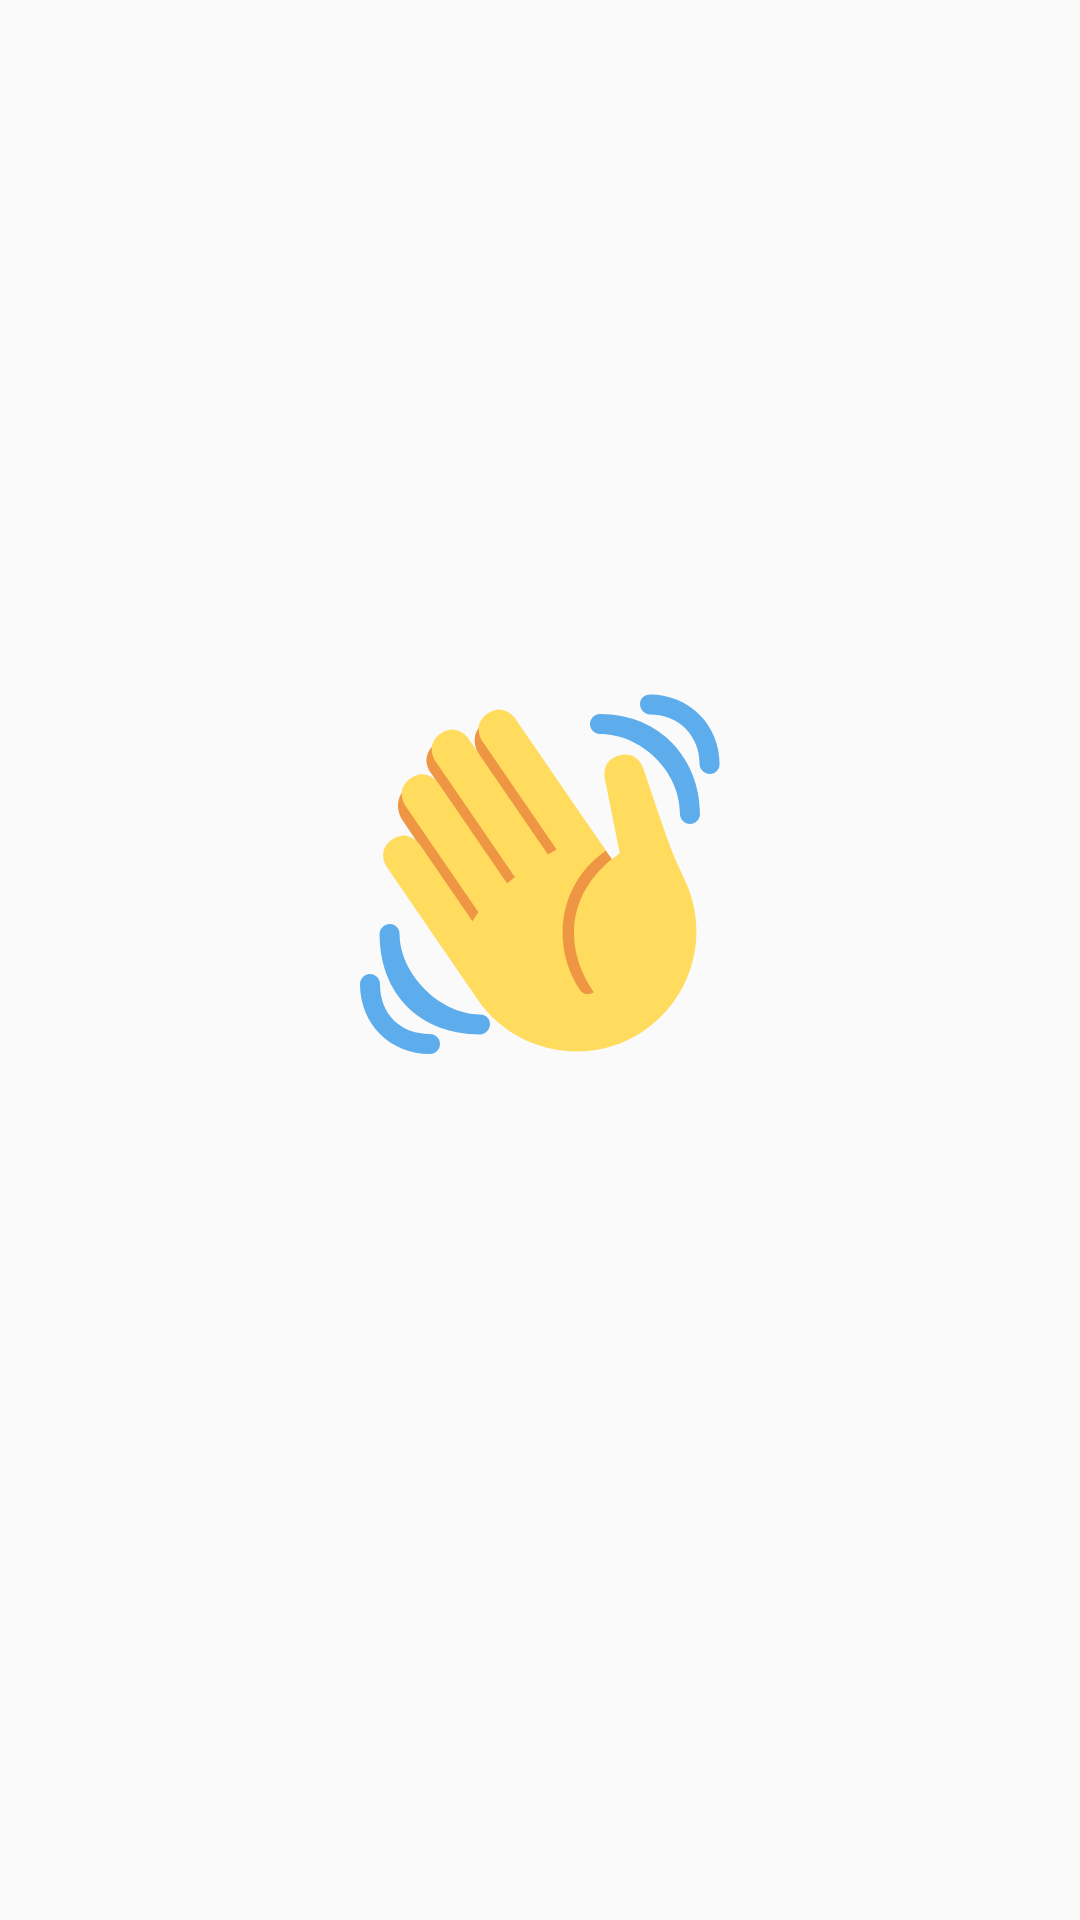

Screen size 1080x1920. Icon name, then its box in pixels as (x1, y1, x2, y2):
welcome: (360, 694, 720, 1054)
